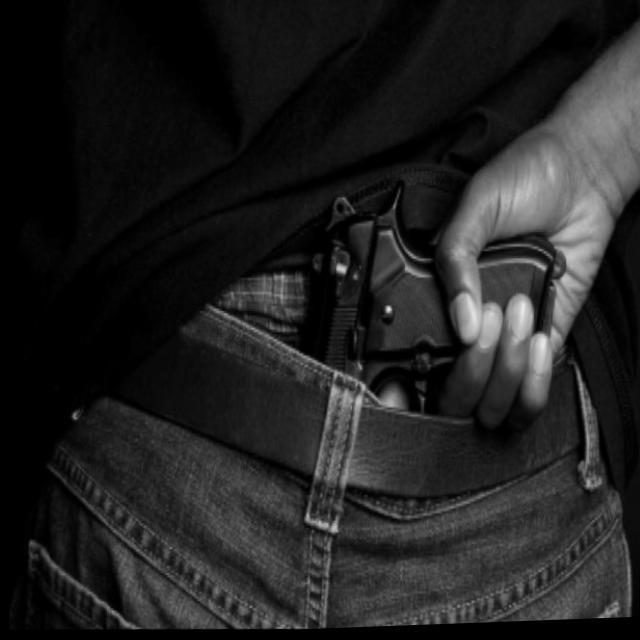weapon: (298, 173, 570, 426)
